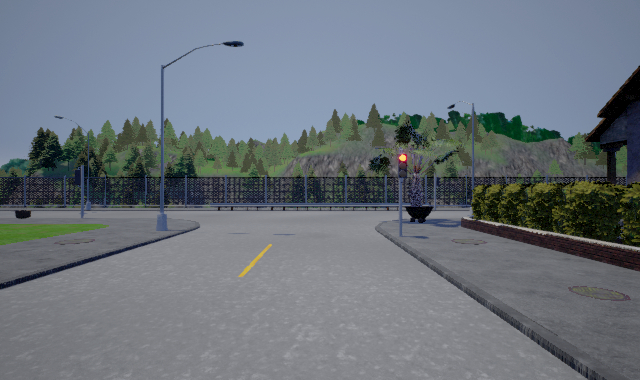traffic_light: (398, 153, 407, 178)
